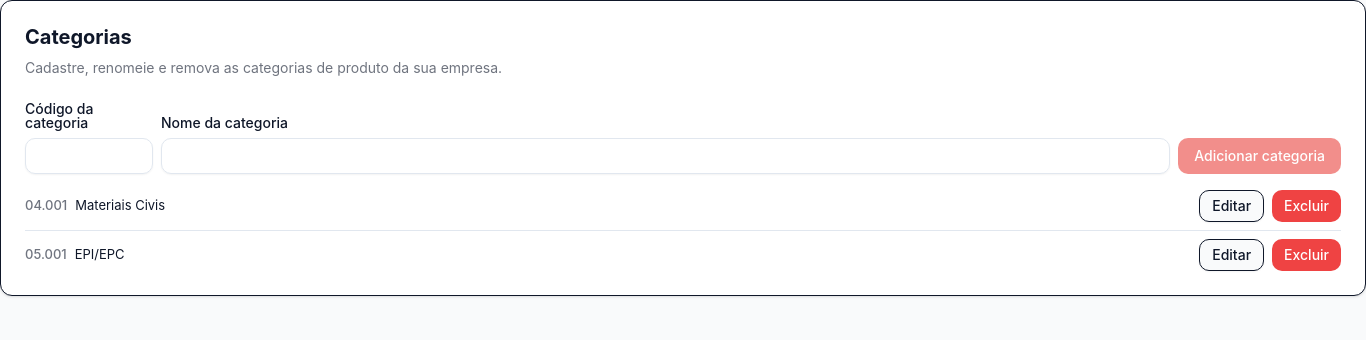
Test: CategoriasSection › editar inline: PUT com código/nome novos, toast e GET refeito
Check: the text "Materiais Civis" is shown, box [75,196,165,216]
Click the button with aria-label "Editar categoria Materiais Civis": {"x": 1232, "y": 206} [1199,190,1264,222]
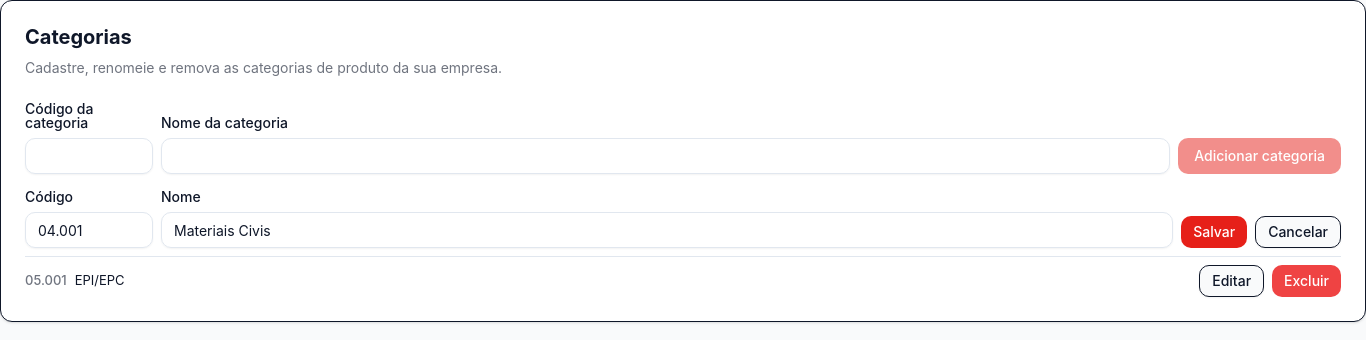
Check: the field labelled "Código" holds "04.001"
Check: the field labelled "Nome" holds "Materiais Civis", box [161,212,1173,248]
Replace the text in the field labelled "Código" with "04.009": {"x": 89, "y": 230} [25,212,153,248]
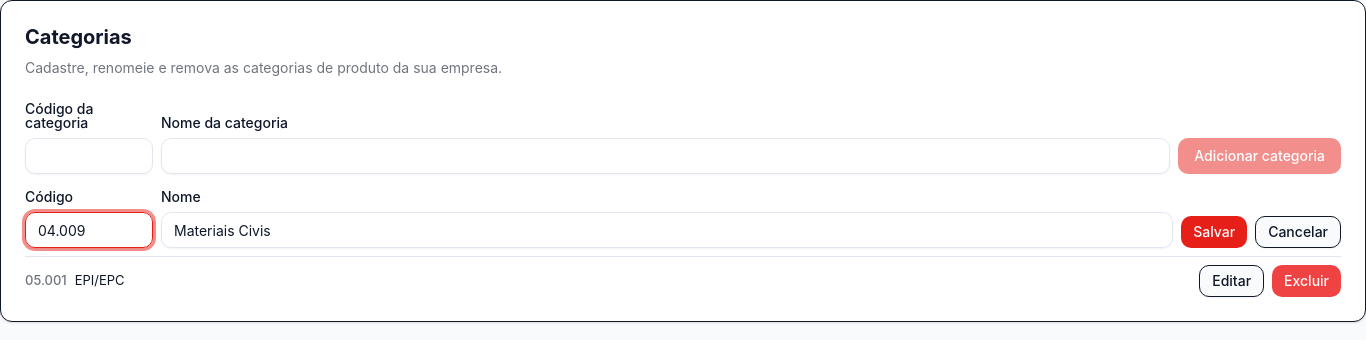
Replace the text in the field labelled "Nome" with "Civis": {"x": 667, "y": 230} [161,212,1173,248]
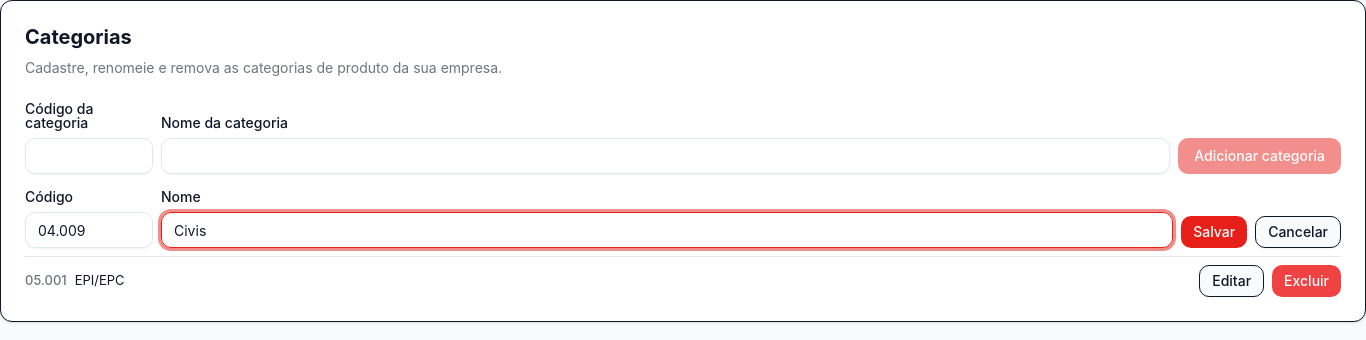
Click the button "Salvar": {"x": 1214, "y": 232} [1181,216,1247,248]
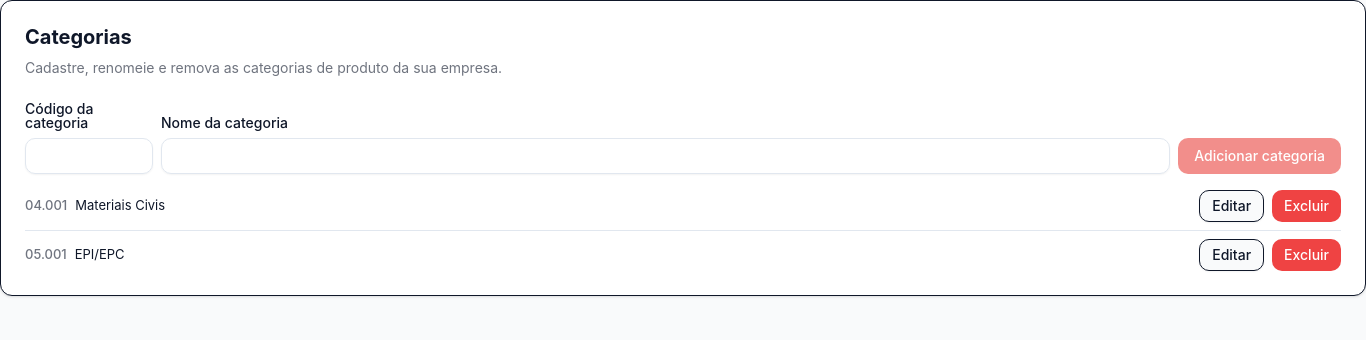
Check: the button "Salvar" is gone
